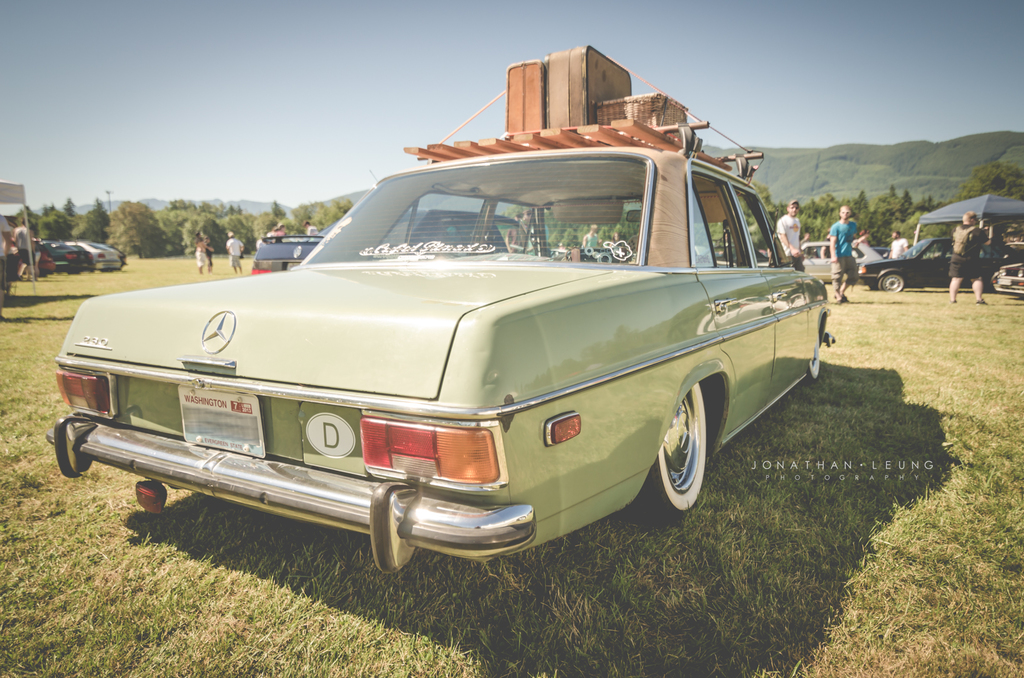Tree: (13, 163, 1023, 261)
